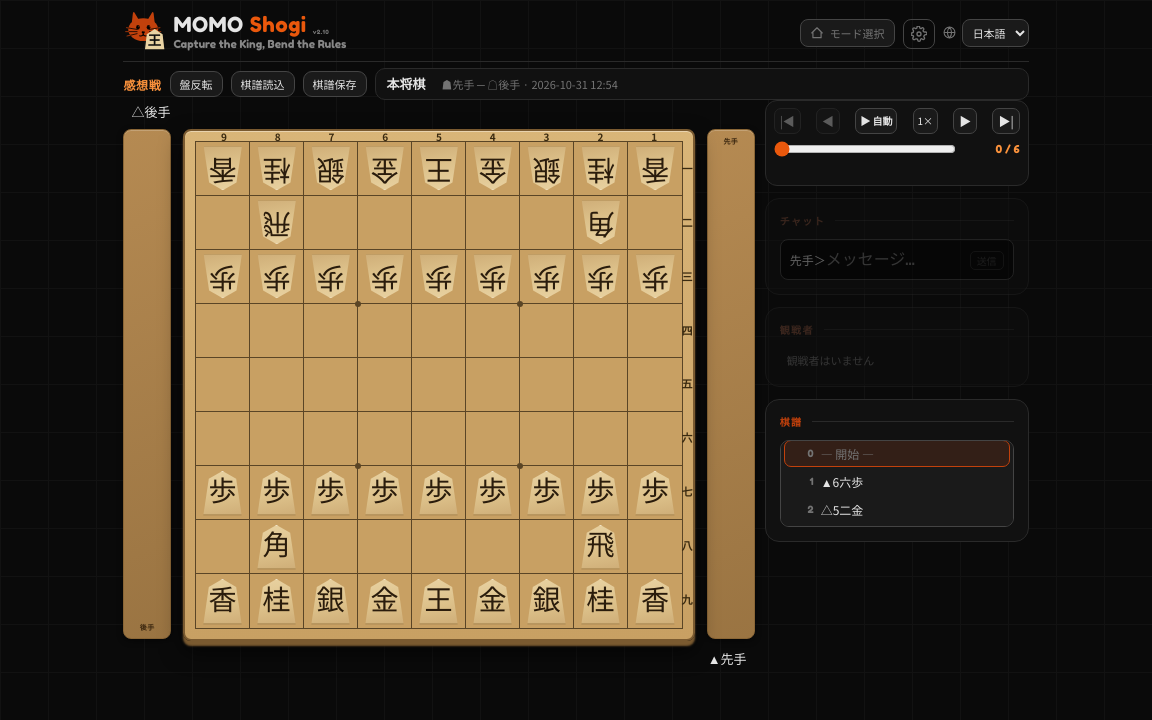
Test: S11 どちらの駒でも指せる（手番の縛りが無い） › ★v1.59: 駒を掴んでいないときは一言を出さないが、場所は空けたまま
掴んだら出る＝**行そのものは消さない**ので、出たり消えたりしても盤が縦に動かない。
Click the 5th element showing "歩" at (439, 277), box [412, 250, 466, 304]
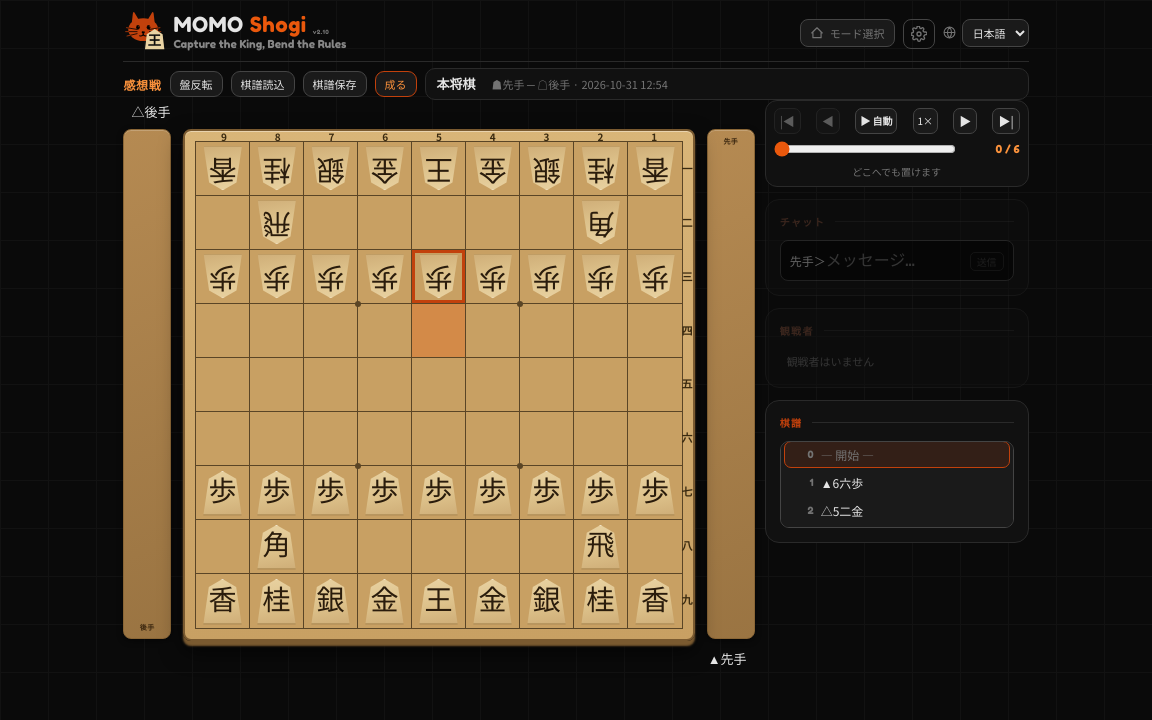
Expected: the text with class "free-note" reads "どこへでも置けます", [852, 164, 941, 179]
